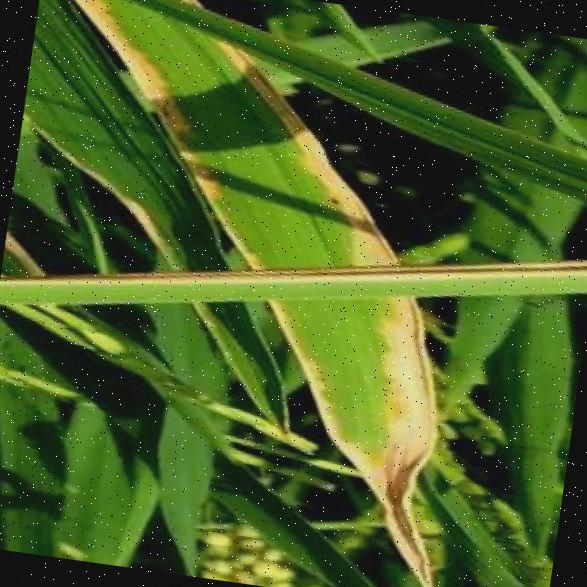Bacteria_Leaf_Blight: (271, 274, 455, 503)
